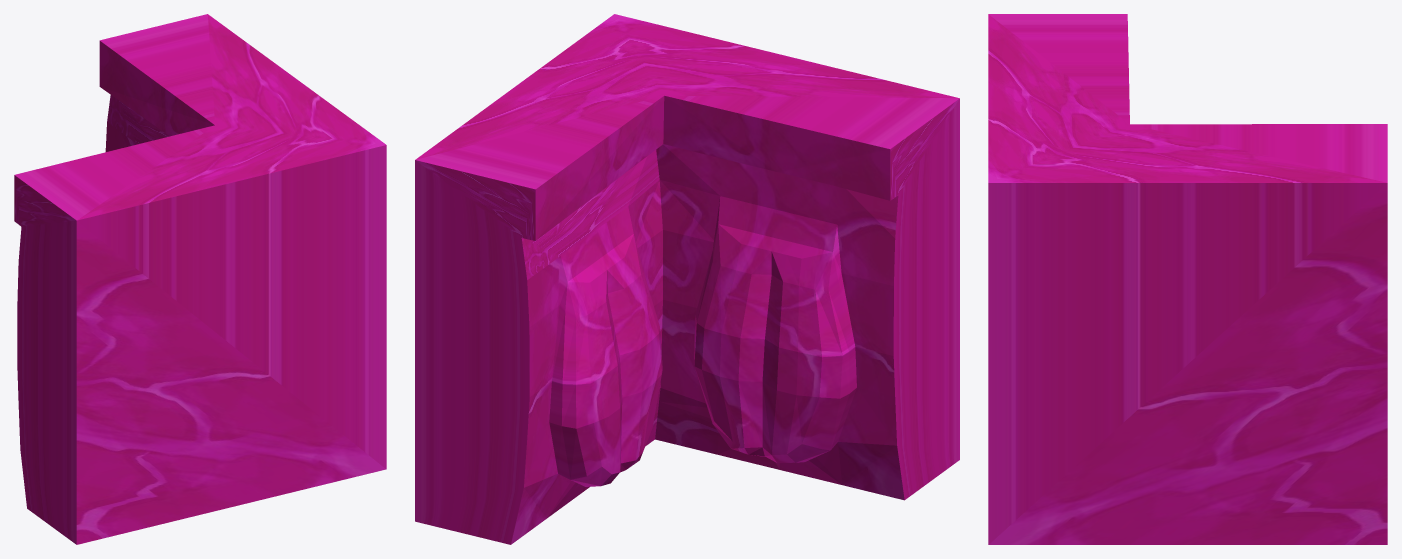
The model's file is EspacioPornoEsquinaCierreExteriorNI.gltf.
3 views of the same model, side by side, from view 1: azimuth 30°, elevation 25°; view 2: azimuth 150°, elevation 25°; view 3: azimuth 270°, elevation 25° (orthographic). The views are drawn at different scales.
Parts seen in each view (by area): view 1: Cubo.56; view 2: Cubo.56; view 3: Cubo.56.
Boxes of the visible parts, x1,y1,x2,y2 form: Cubo.56: (14,14,386,544); Cubo.56: (415,14,959,544); Cubo.56: (988,14,1387,544).
Bounding box in the file's own units: 2 × 2 × 2.
1 material, 1 textured.
